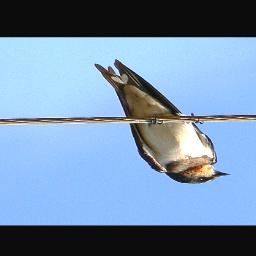Swallow: (93, 59, 232, 185)
